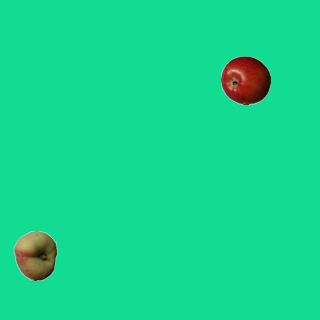Apple Braeburn: (220, 55, 270, 105)
Peach Flat: (10, 230, 60, 280)
